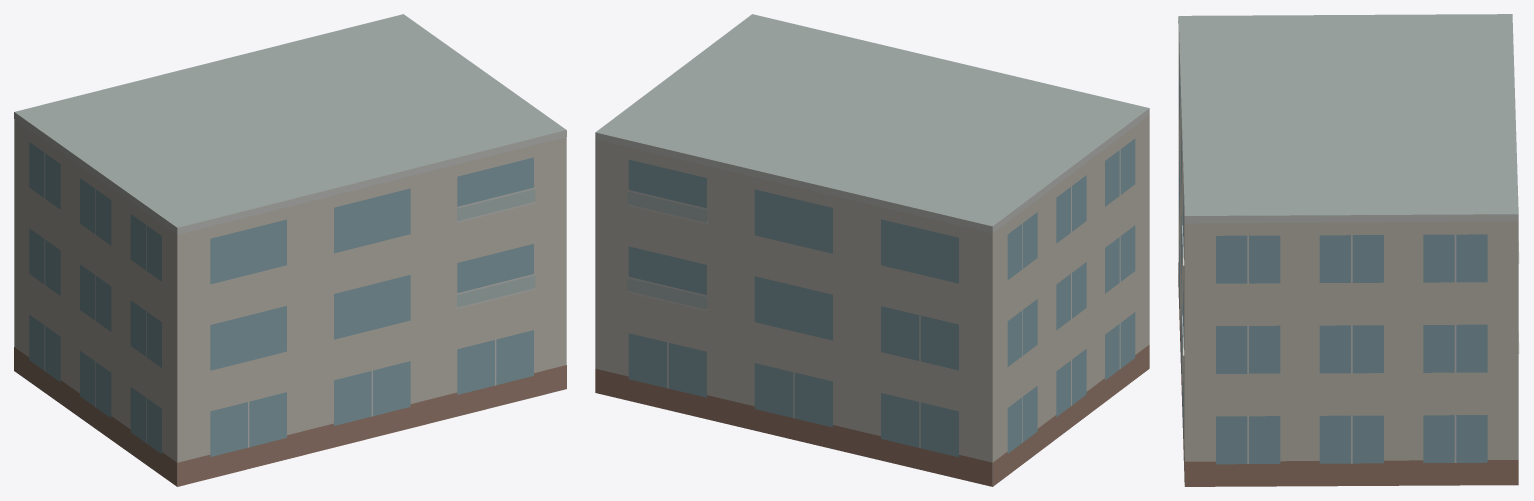
Rendered from survey-upis-32718344.glb.
3 renders of one model, left to right at view 1: azimuth 30°, elevation 25°; view 2: azimuth 150°, elevation 25°; view 3: azimuth 270°, elevation 25°, orthographic. The views are drawn at different scales.
Parts seen in each view (by area): view 1: survey-upis-32718344.tmp; view 2: survey-upis-32718344.tmp; view 3: survey-upis-32718344.tmp.
Boxes of the visible parts, x1,y1,x2,y2 form: survey-upis-32718344.tmp: [14, 14, 566, 486]; survey-upis-32718344.tmp: [595, 14, 1149, 486]; survey-upis-32718344.tmp: [1178, 14, 1519, 486].
Size of the model in its own units: 14.65 by 9.15 by 10.44.
